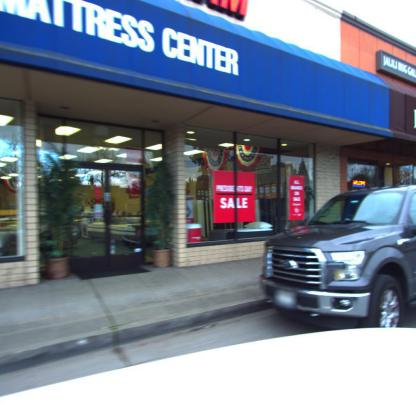car: (257, 185, 416, 330)
